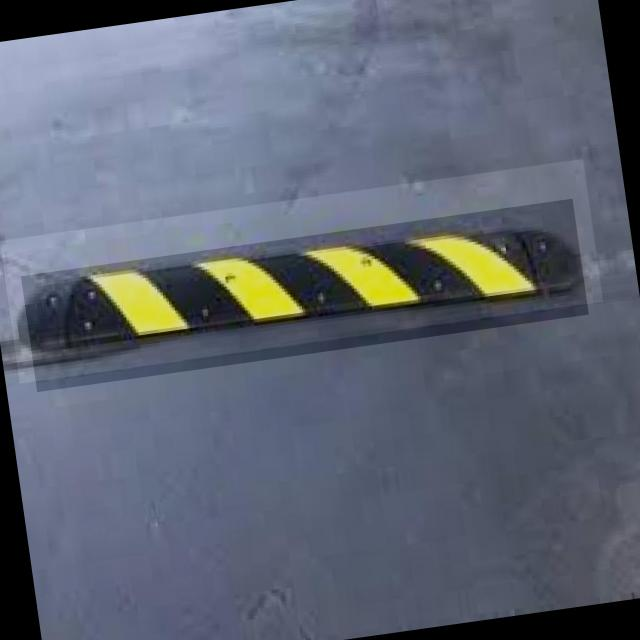bump: (21, 199, 589, 392)
